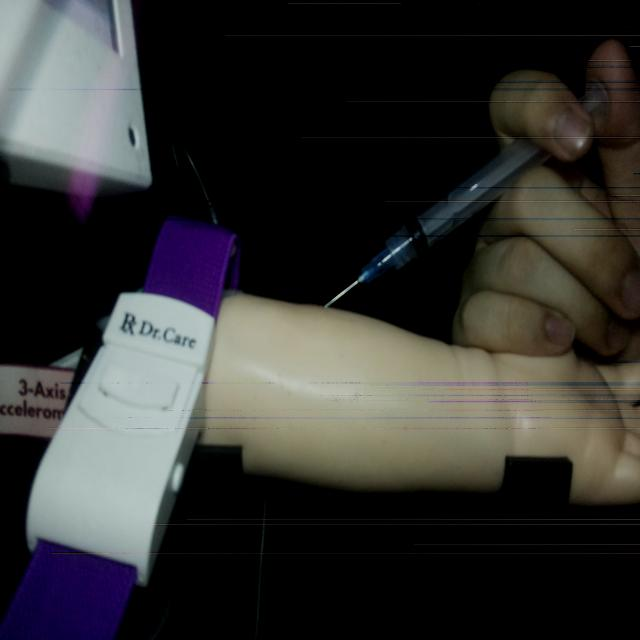29 degrees: (321, 76, 614, 309)
